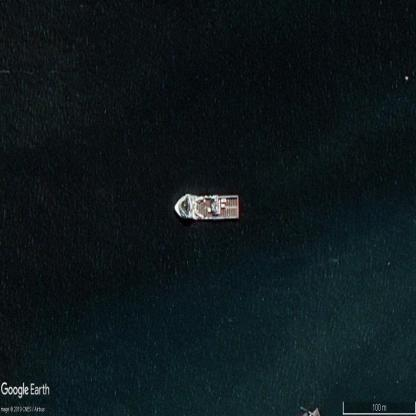ship: (174, 194, 240, 218)
